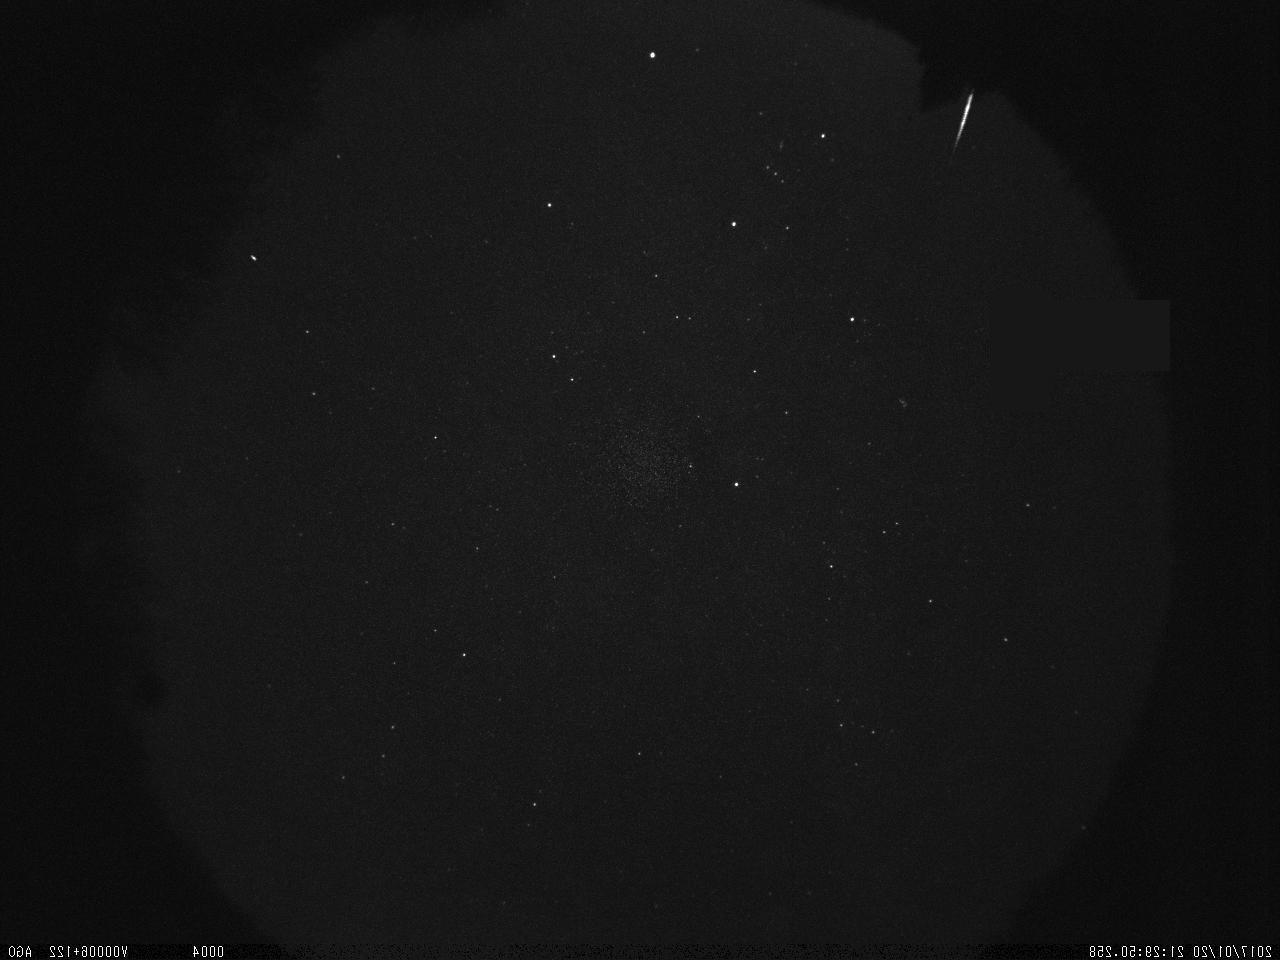meteor: (942, 86, 983, 172)
